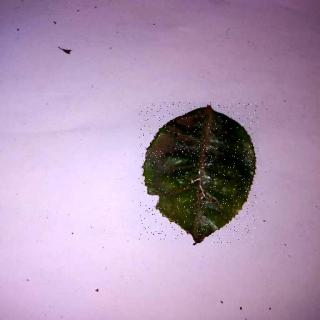Anthracnose: (140, 104, 260, 245)
